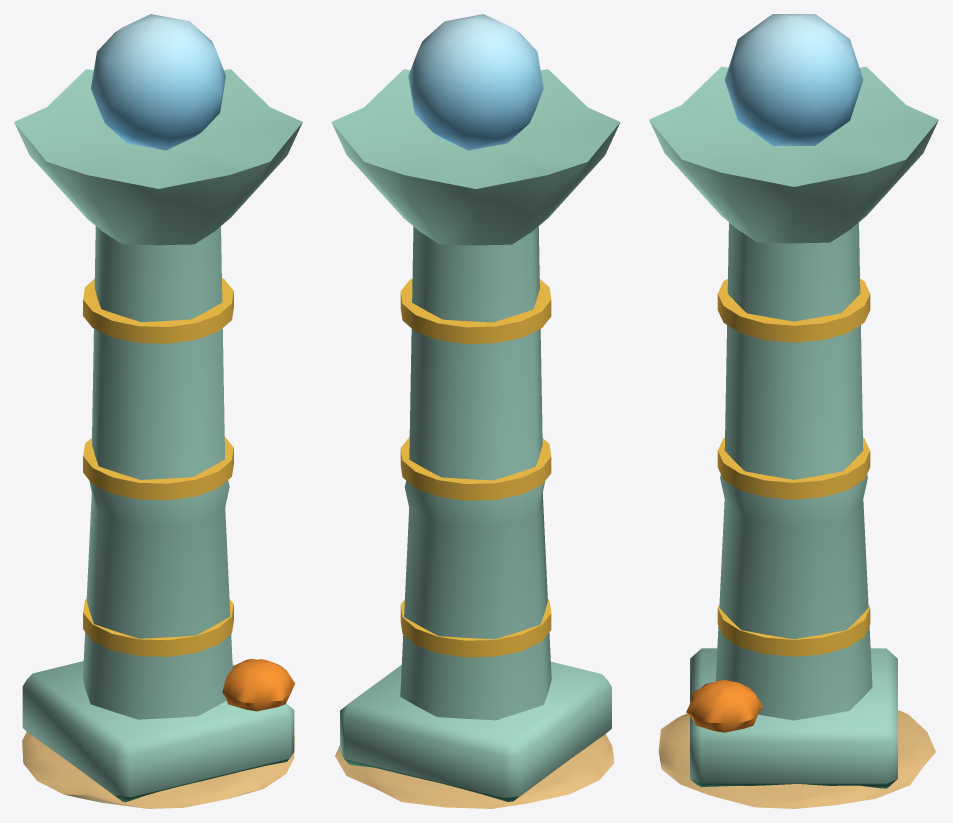
The model's file is AtlantisColumn.fbx.
The picture shows the model from 3 angles, left to right: view 1: azimuth 30°, elevation 25°; view 2: azimuth 150°, elevation 25°; view 3: azimuth 270°, elevation 25°; orthographic projection.
Visible parts, largest first — view 1: AtlantisColumn; view 2: AtlantisColumn; view 3: AtlantisColumn.
Part boxes in pixels (bbox=[...]): AtlantisColumn: bbox=[14, 14, 302, 808]; AtlantisColumn: bbox=[331, 14, 620, 808]; AtlantisColumn: bbox=[649, 14, 938, 808].
Bounding box in the file's own units: 1.22 × 3.5 × 1.25.
2 materials, 2 textured.
